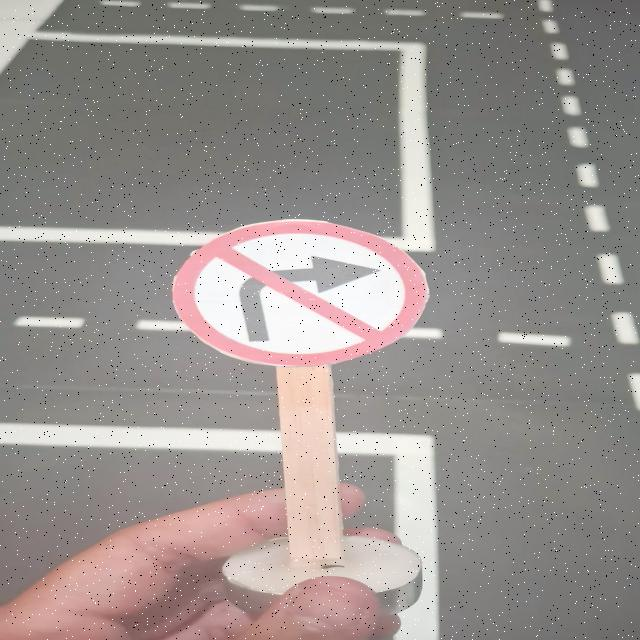Dilarang Belok Kanan: (172, 221, 428, 365)
